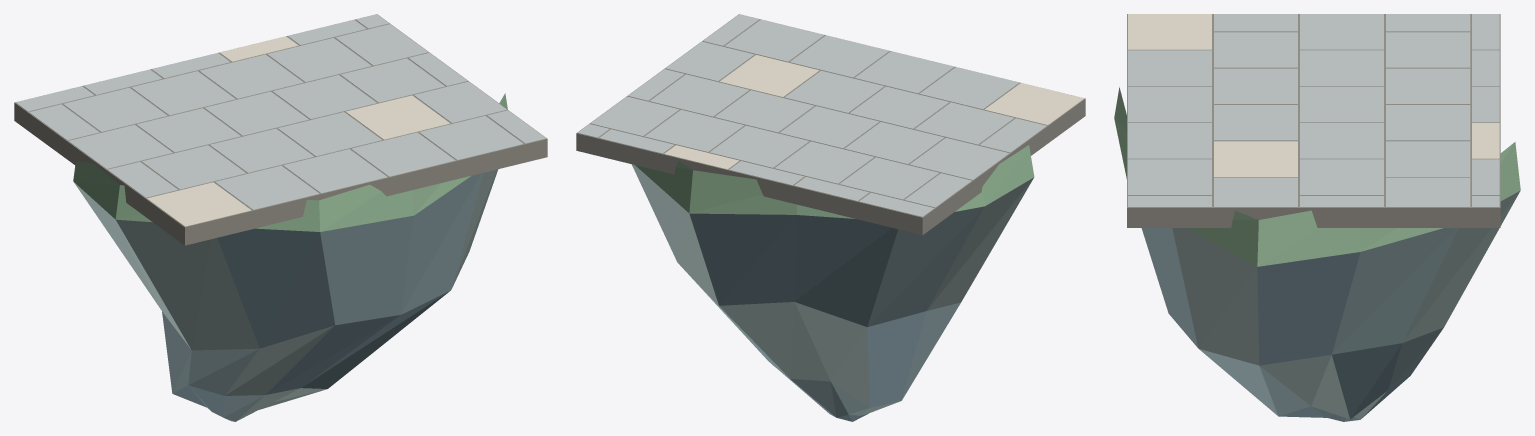
The model's file is FloatingIsland05.glb.
3 renders of one model, left to right at view 1: azimuth 30°, elevation 25°; view 2: azimuth 150°, elevation 25°; view 3: azimuth 270°, elevation 25°, orthographic. The views are drawn at different scales.
Visible parts, largest first — view 1: FloatingIsland05; view 2: FloatingIsland05; view 3: FloatingIsland05.
Boxes of the visible parts, left/top/right/bottom form: FloatingIsland05: left=14, top=14, right=547, bottom=421; FloatingIsland05: left=576, top=14, right=1085, bottom=421; FloatingIsland05: left=1114, top=14, right=1520, bottom=421.
Bounding box in the file's own units: 6.08 × 4.45 × 4.96.
